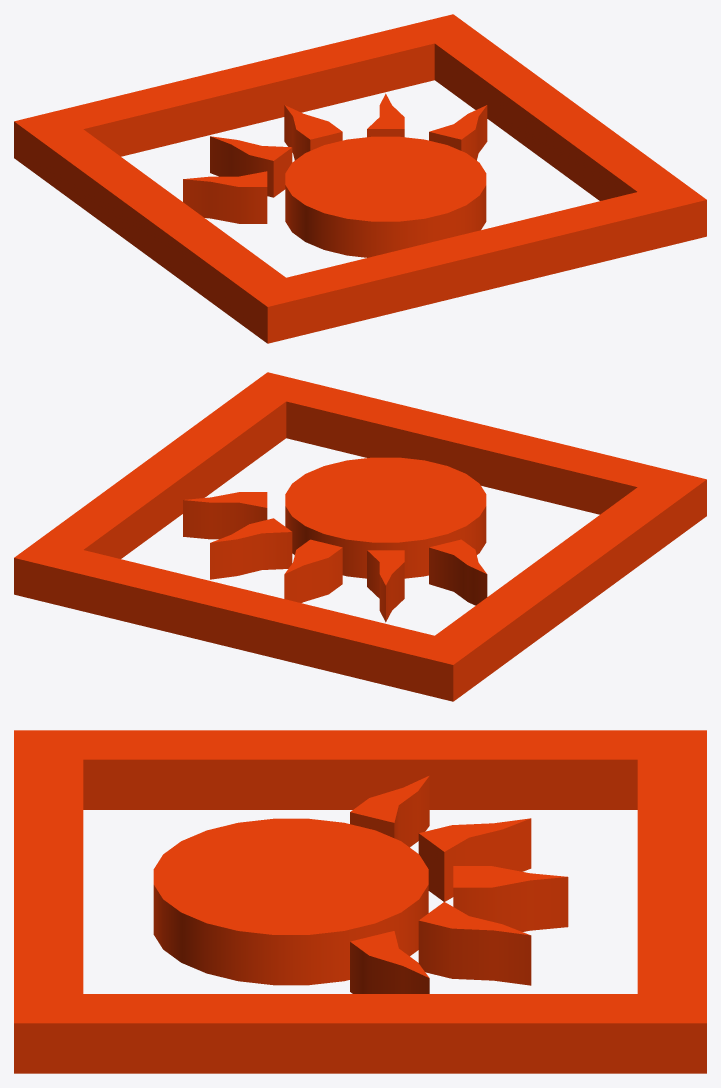
Rendered from pu_fireBall.fbx.
3 renders of one model, top to bottom at view 1: azimuth 30°, elevation 25°; view 2: azimuth 150°, elevation 25°; view 3: azimuth 270°, elevation 25°, orthographic. The views are drawn at different scales.
Visible parts, largest first — view 1: pu_fireBall; view 2: pu_fireBall; view 3: pu_fireBall.
Boxes of the visible parts, x1=… form: pu_fireBall: x1=14, y1=14, x2=706, y2=343; pu_fireBall: x1=14, y1=372, x2=706, y2=701; pu_fireBall: x1=14, y1=730, x2=706, y2=1073.
Size of the model in its own units: 1 by 0.08 by 1.
